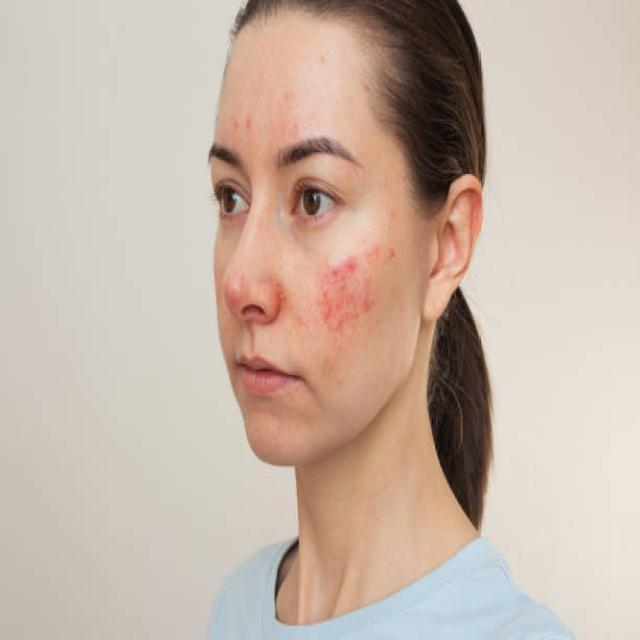Rosacea: (312, 236, 402, 342)
